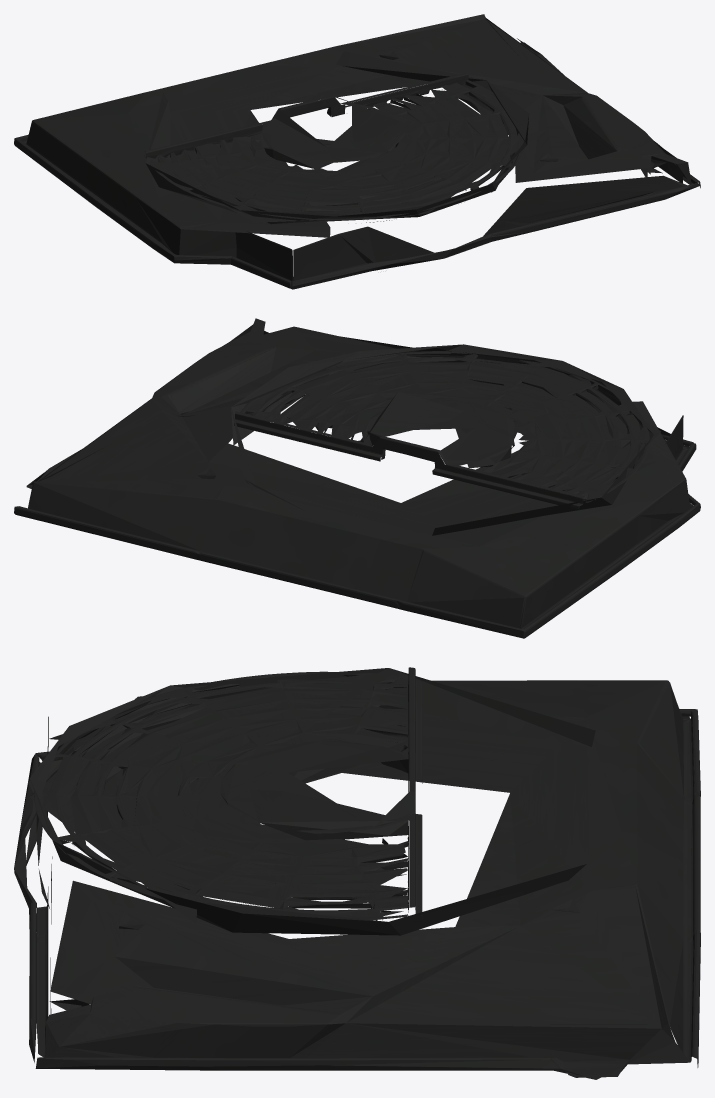
The model's file is coolingSystem_fan_shroud_c01.glb.
3 views of the same model, one above another, from view 1: azimuth 30°, elevation 25°; view 2: azimuth 150°, elevation 25°; view 3: azimuth 270°, elevation 25° (orthographic). The views are drawn at different scales.
Visible parts, largest first — view 1: geometry_0; view 2: geometry_0; view 3: geometry_0.
Part boxes in pixels (x1=…): geometry_0: x1=14, y1=14, x2=700, y2=289; geometry_0: x1=14, y1=318, x2=700, y2=638; geometry_0: x1=14, y1=667, x2=700, y2=1079.
Bounding box in the file's own units: 0.42 × 0.0523 × 0.3334.
Materials: 1 (1 with a texture image).
